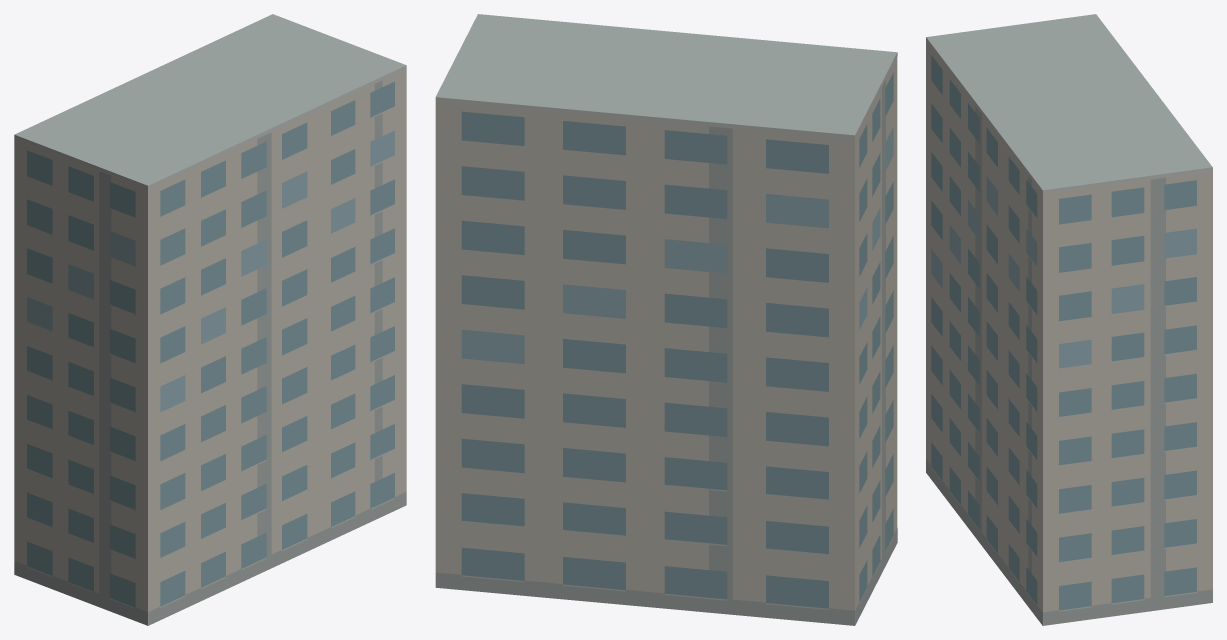
File: residential-67731748-9b7e-4274-8c76-11032f3e64ab.glb
3 views of the same model, side by side, from view 1: azimuth 30°, elevation 25°; view 2: azimuth 150°, elevation 25°; view 3: azimuth 270°, elevation 25° (orthographic). The views are drawn at different scales.
Visible parts, largest first — view 1: residential-67731748-9b7e-4274-8c76-11032f3e64ab.tmp; view 2: residential-67731748-9b7e-4274-8c76-11032f3e64ab.tmp; view 3: residential-67731748-9b7e-4274-8c76-11032f3e64ab.tmp.
Part boxes in pixels (box(x1,y1,x2,y2)): residential-67731748-9b7e-4274-8c76-11032f3e64ab.tmp: box(14, 14, 406, 625); residential-67731748-9b7e-4274-8c76-11032f3e64ab.tmp: box(435, 14, 897, 625); residential-67731748-9b7e-4274-8c76-11032f3e64ab.tmp: box(926, 14, 1212, 625).
Bounding box in the file's own units: 23.46 × 27 × 16.12.
